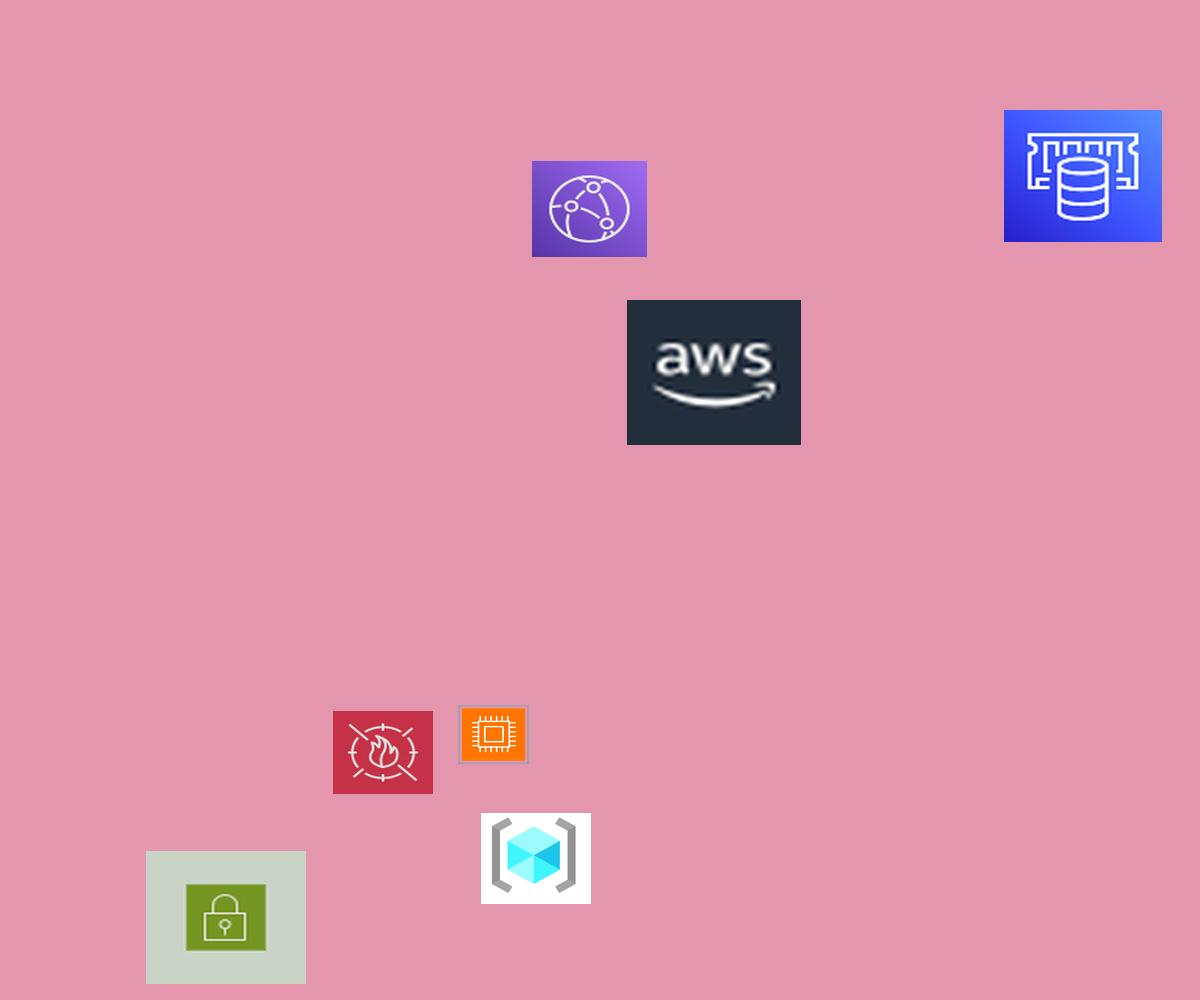AWS-Category_Compute: (458, 705, 529, 764)
AWS-Cloud-logo: (627, 300, 801, 445)
AWS-CloudFront: (532, 161, 647, 257)
AWS-ElastiCache: (1004, 110, 1162, 242)
AWS-Public-subnet: (146, 851, 306, 984)
AWS-WAF: (333, 711, 433, 794)
Azure_resource_group: (481, 813, 591, 904)
